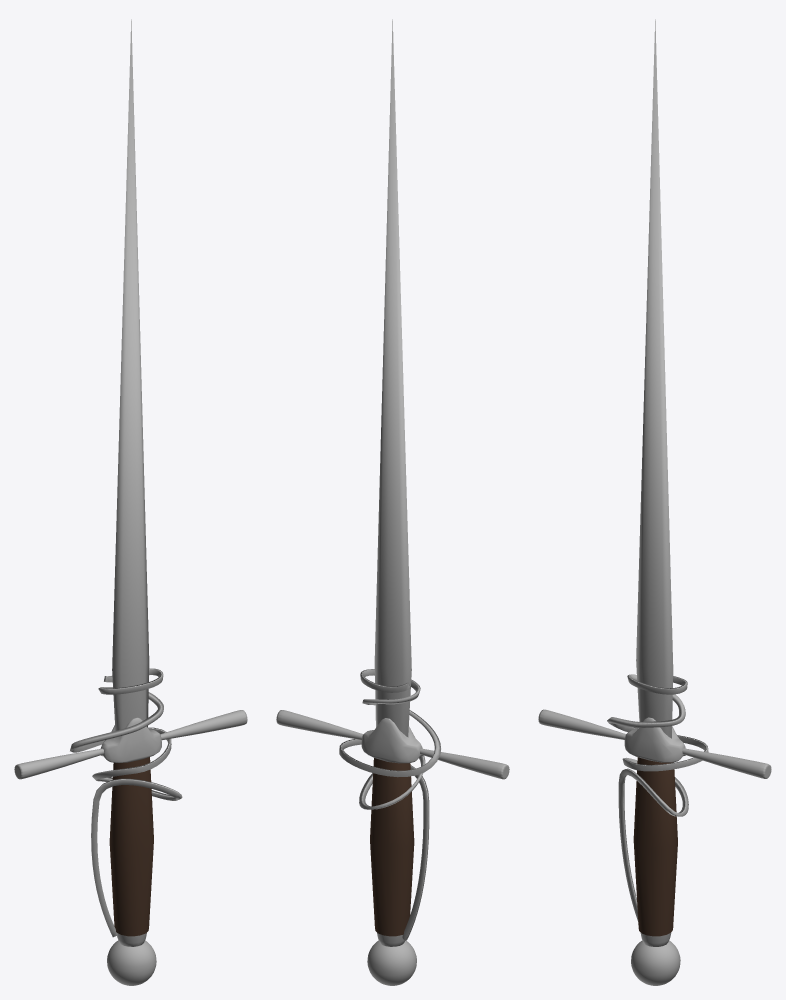
Rendered from Lance.fbx.
3 renders of one model, left to right at view 1: azimuth 30°, elevation 25°; view 2: azimuth 150°, elevation 25°; view 3: azimuth 330°, elevation 25°, orthographic.
Visible parts, largest first — view 1: Cube.004; view 2: Cube.004; view 3: Cube.004.
Boxes of the visible parts, x1,y1,x2,y2 form: Cube.004: (14,19,247,985); Cube.004: (276,19,509,985); Cube.004: (538,19,771,985).
Size of the model in its own units: 89.25 by 366 by 27.37.
